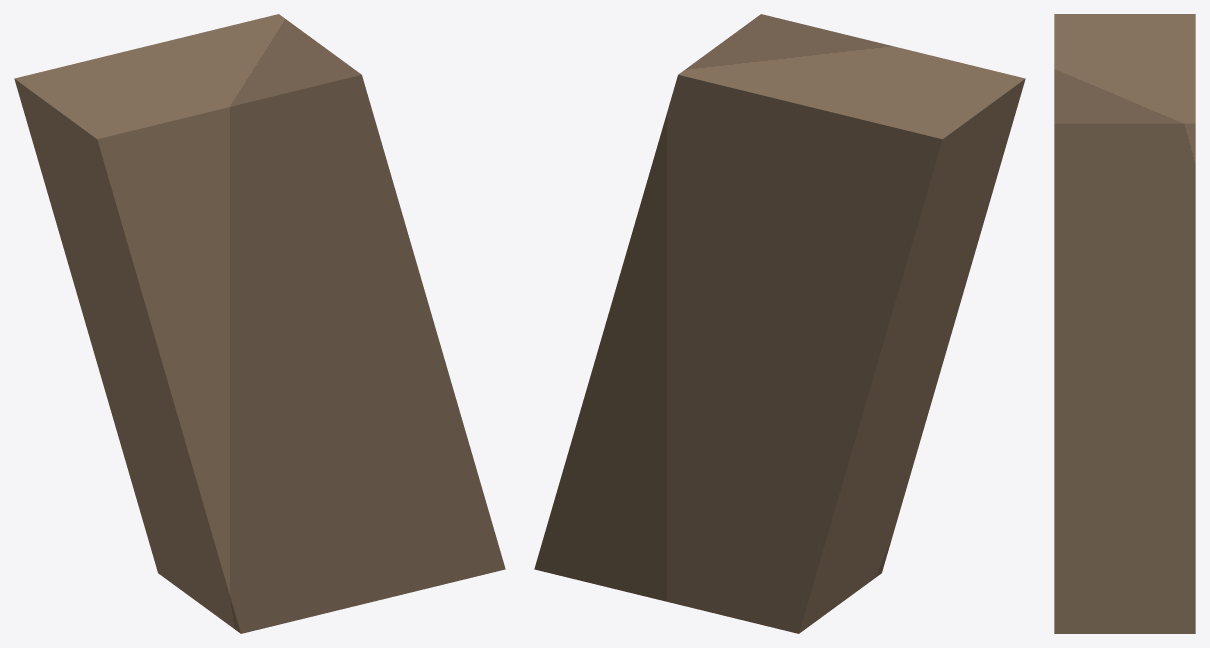
File: grip.glb
The picture shows the model from 3 angles, left to right: view 1: azimuth 30°, elevation 25°; view 2: azimuth 150°, elevation 25°; view 3: azimuth 270°, elevation 25°; orthographic projection. The views are drawn at different scales.
Size of the model in its own units: 0.071 by 0.088 by 0.025.
Materials: 1 (1 with a texture image).
